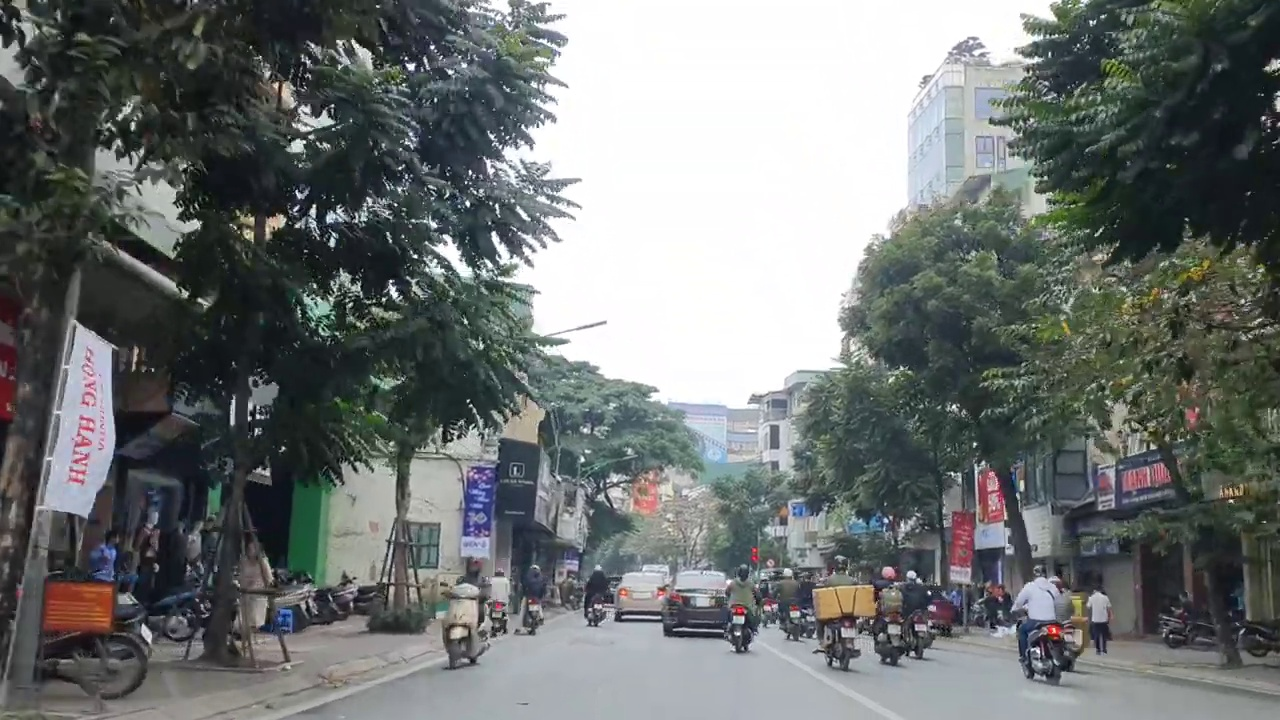person: (492, 608, 503, 619), (526, 603, 540, 609), (591, 603, 603, 609)
